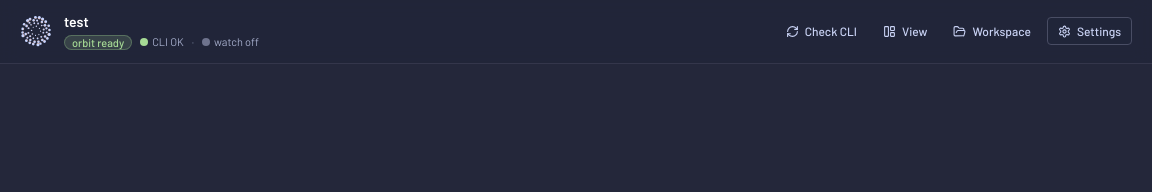
Test case: AppHeader menus › closes view menu when workspace menu opens
The width and height of the screenshot is (1152, 192).
Click the button "View": click(905, 31) left=873, top=17, right=937, bottom=45
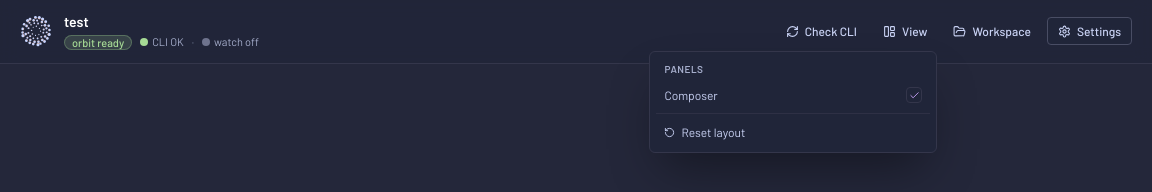
Result: the text "Panels" is shown at left=664, top=63, right=704, bottom=75
Click the button "Workspace": click(992, 31) left=943, top=17, right=1041, bottom=45
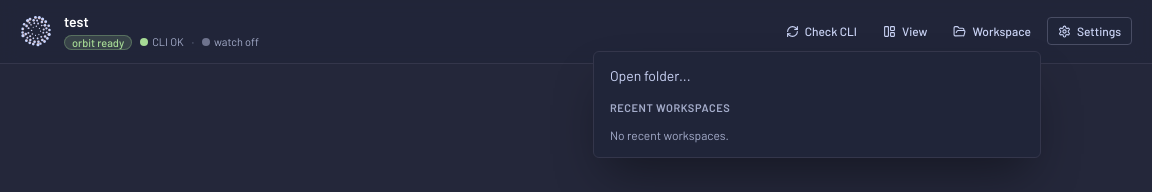
Result: the text "Panels" is gone
Result: the button "Open folder..." is shown at left=602, top=60, right=1032, bottom=92
